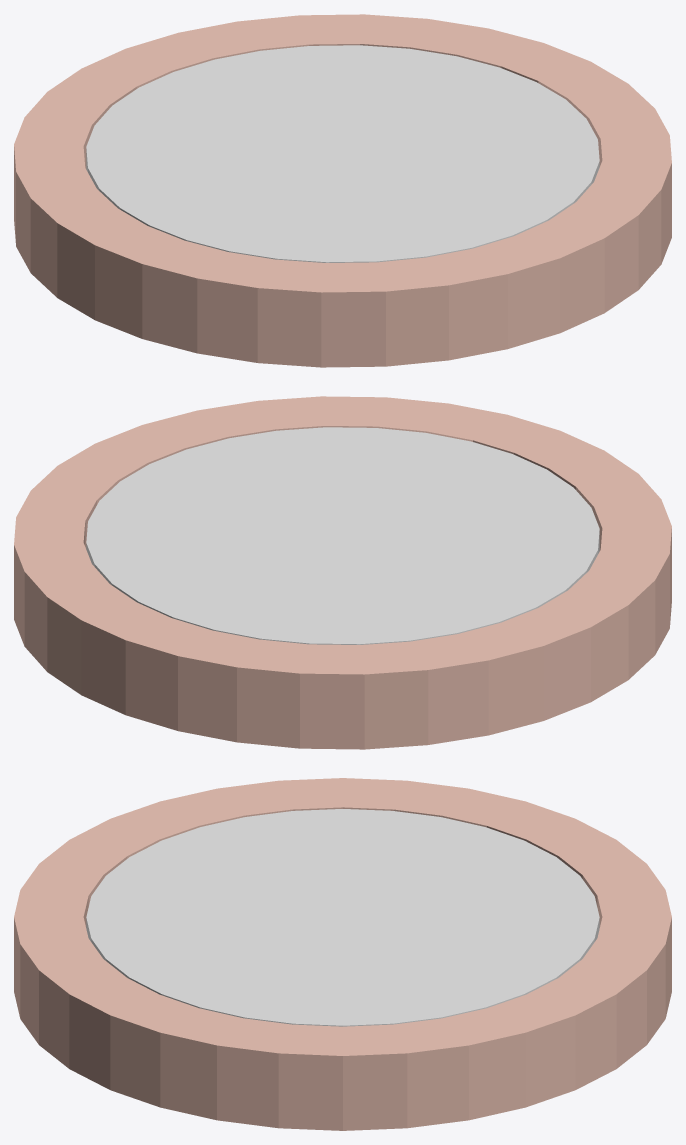
Rendered from lampara de techo.glb.
3 views of the same model, one above another, from view 1: azimuth 30°, elevation 25°; view 2: azimuth 150°, elevation 25°; view 3: azimuth 270°, elevation 25° (orthographic).
Visible parts, largest first — view 1: Afuera, Adentro; view 2: Afuera, Adentro; view 3: Afuera, Adentro.
Boxes of the visible parts, <box> form: Afuera: <box>14,14,671,367</box>; Adentro: <box>86,45,599,262</box>; Afuera: <box>14,396,671,749</box>; Adentro: <box>86,427,599,644</box>; Afuera: <box>14,778,671,1130</box>; Adentro: <box>86,809,599,1026</box>.
Size of the model in its own units: 2 by 0.2595 by 2.
2 materials, 1 textured.
